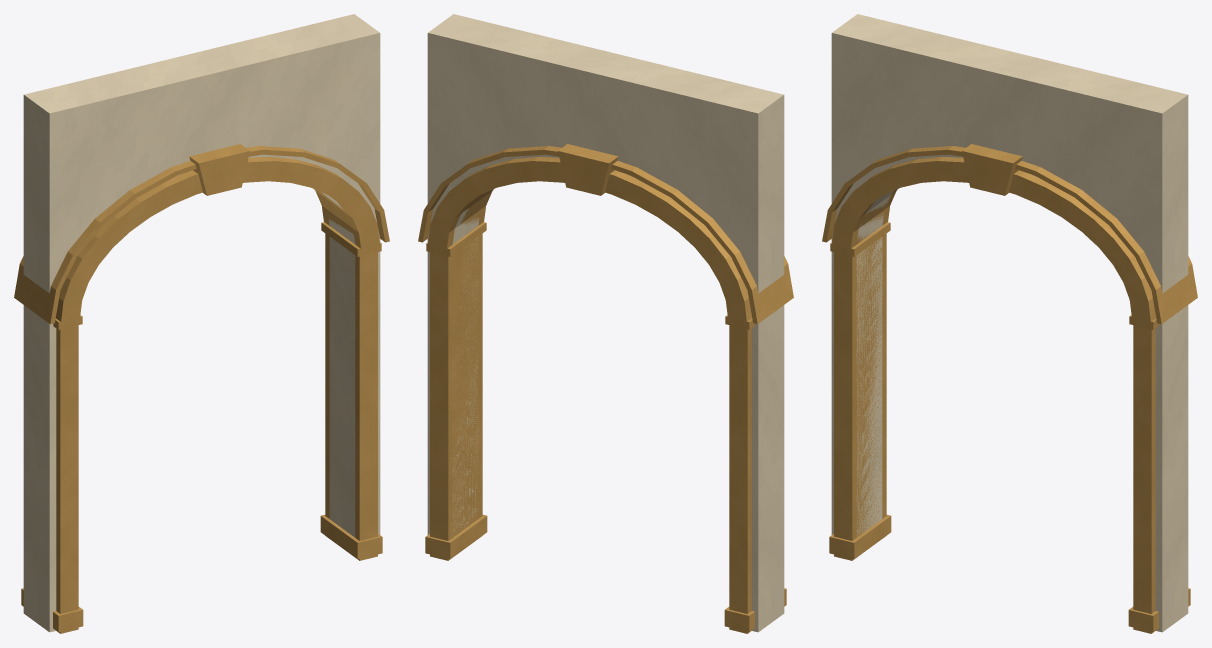
The model's file is SM_Theater_Door_Portal4.fbx.
3 views of the same model, side by side, from view 1: azimuth 30°, elevation 25°; view 2: azimuth 150°, elevation 25°; view 3: azimuth 330°, elevation 25° (orthographic).
Visible parts, largest first — view 1: SM_Theater_Door_Portal4_LOD0; view 2: SM_Theater_Door_Portal4_LOD0; view 3: SM_Theater_Door_Portal4_LOD0.
Part boxes in pixels (box(x1,y1,x2,y2)): SM_Theater_Door_Portal4_LOD0: box(14, 14, 389, 633); SM_Theater_Door_Portal4_LOD0: box(418, 14, 793, 633); SM_Theater_Door_Portal4_LOD0: box(822, 14, 1197, 633).
Size of what is drawn, in the model's own units: 4.11 by 6 by 0.94.
